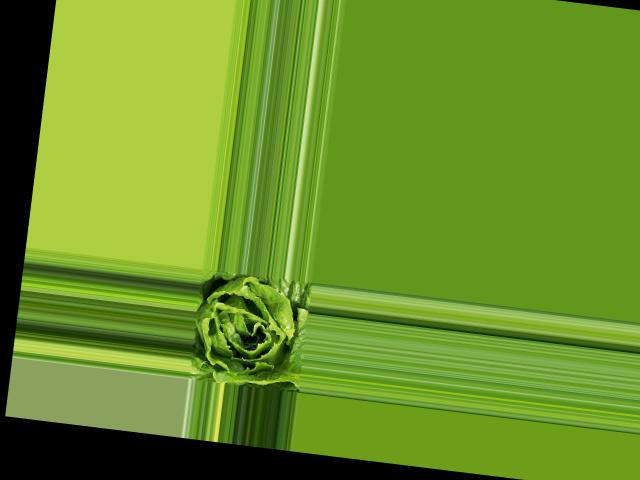lettuce: (189, 270, 312, 391)
